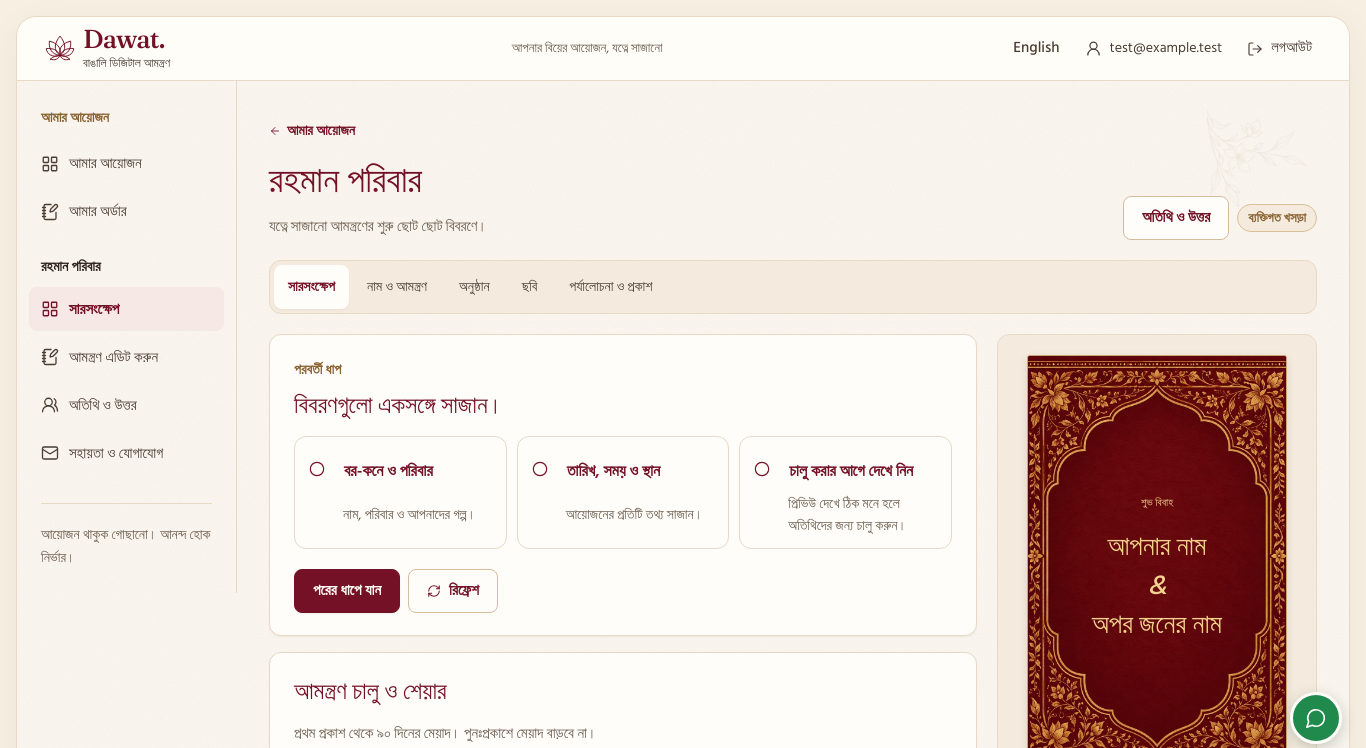
Test: pauses autosave after an uncertain failure and supports deliberate retry without discarding text
Click the button "নাম ও আমন্ত্রণ" at (397, 287), box 353,265 -> 441,309
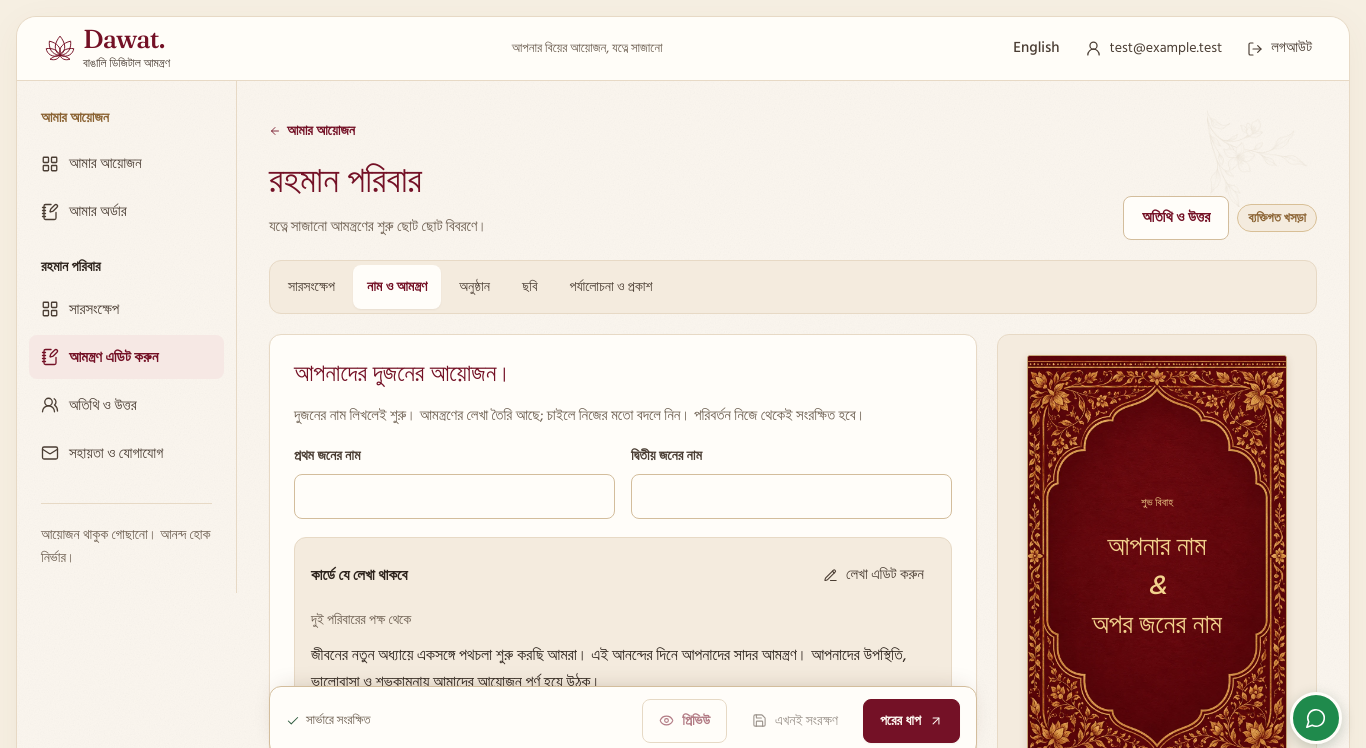
Type "আমার লেখা" into the field labelled "প্রথম জনের নাম" at (454, 496), box 294,474 -> 615,519
Wait 2000 ms
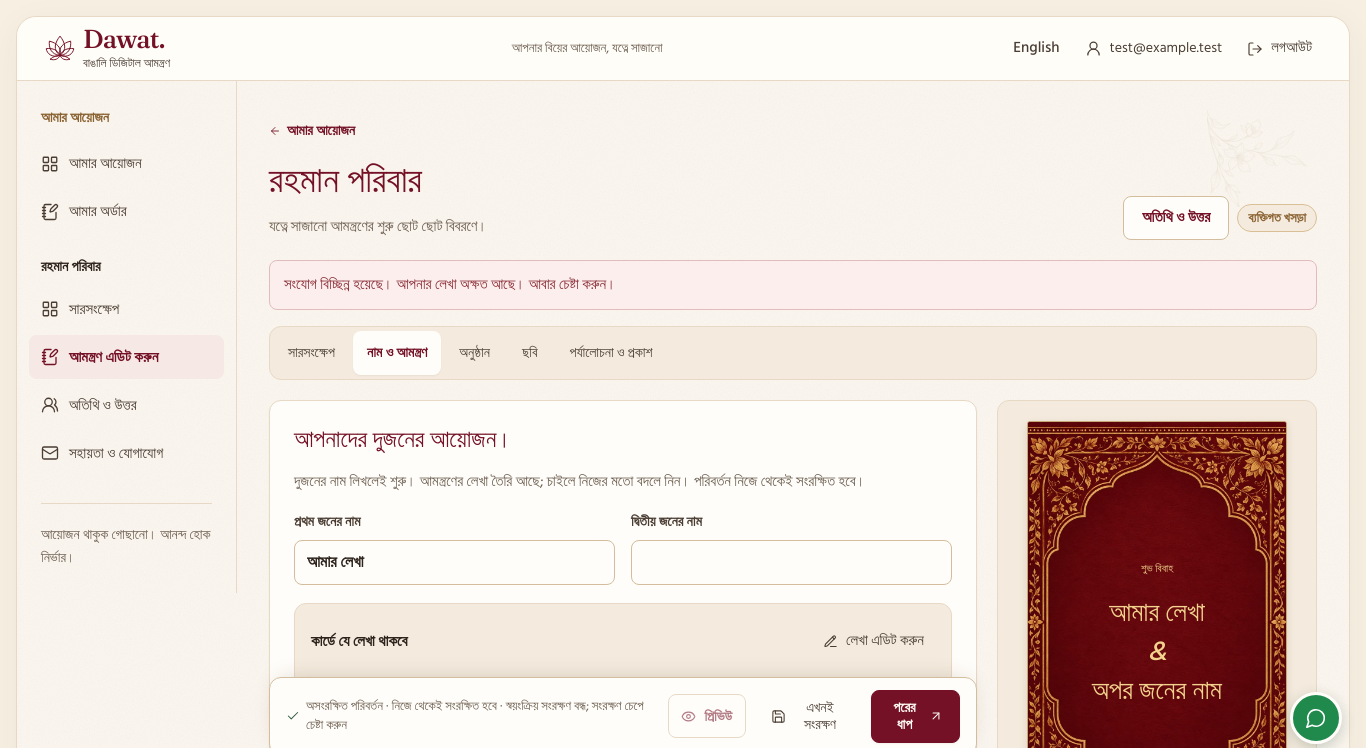
Expected: the message "সংযোগ বিচ্ছিন্ন হয়েছে। আপনার লেখা অক্ষত আছে। আবার চেষ্টা করুন।" is shown, 269,260 -> 1317,310
Replace the text in the field labelled "প্রথম জনের নাম" with "আরও লেখা" at (454, 562), box 294,540 -> 615,585
Wait 10000 ms
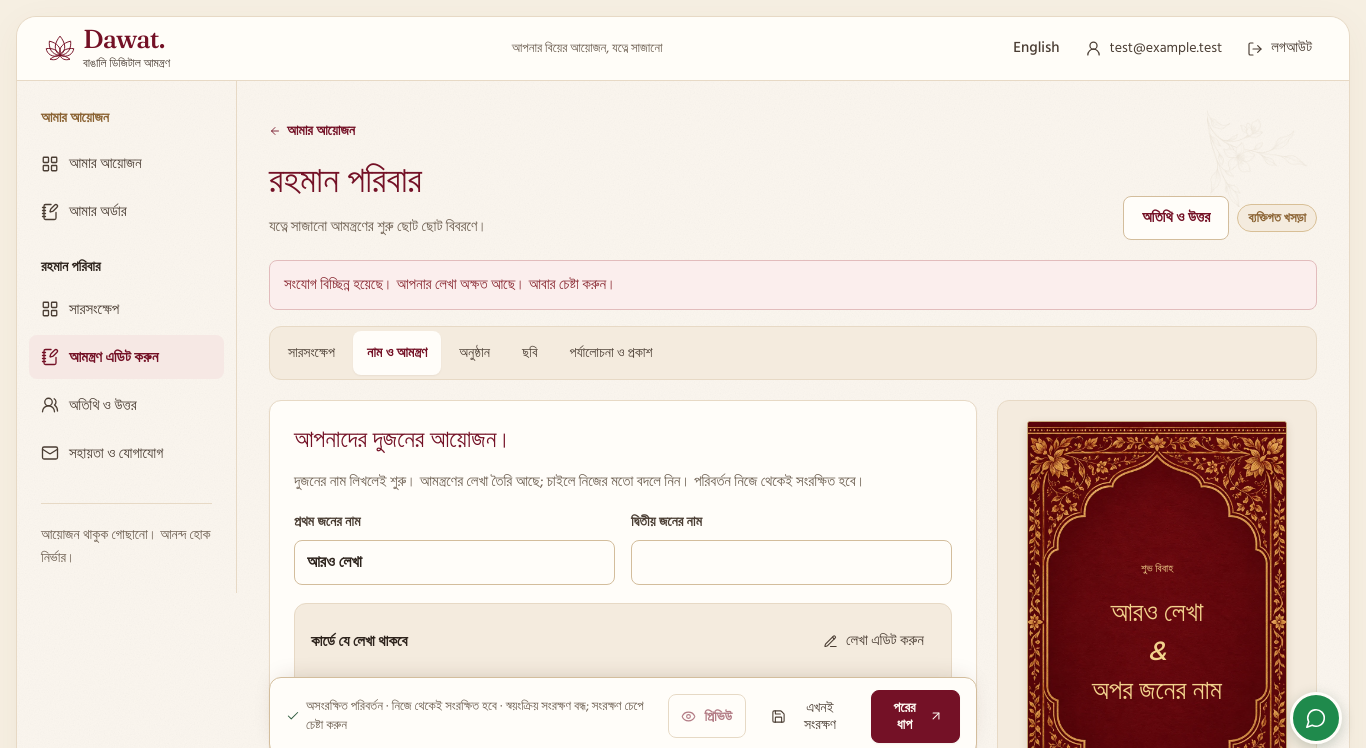
Click the button with aria-label "খসড়া সংরক্ষণ" at (808, 716), box 754,690 -> 863,743
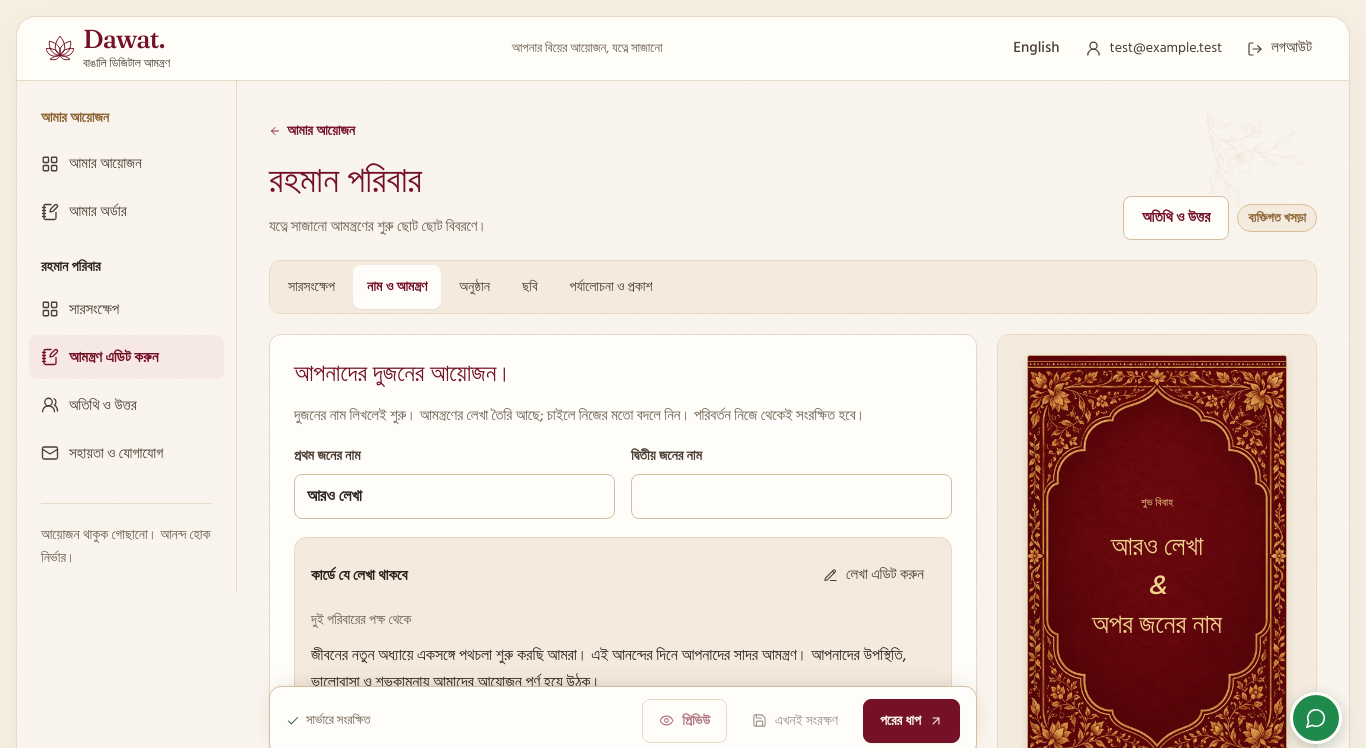
Expected: the text "সার্ভারে সংরক্ষিত" is shown, 286,709 -> 371,733
